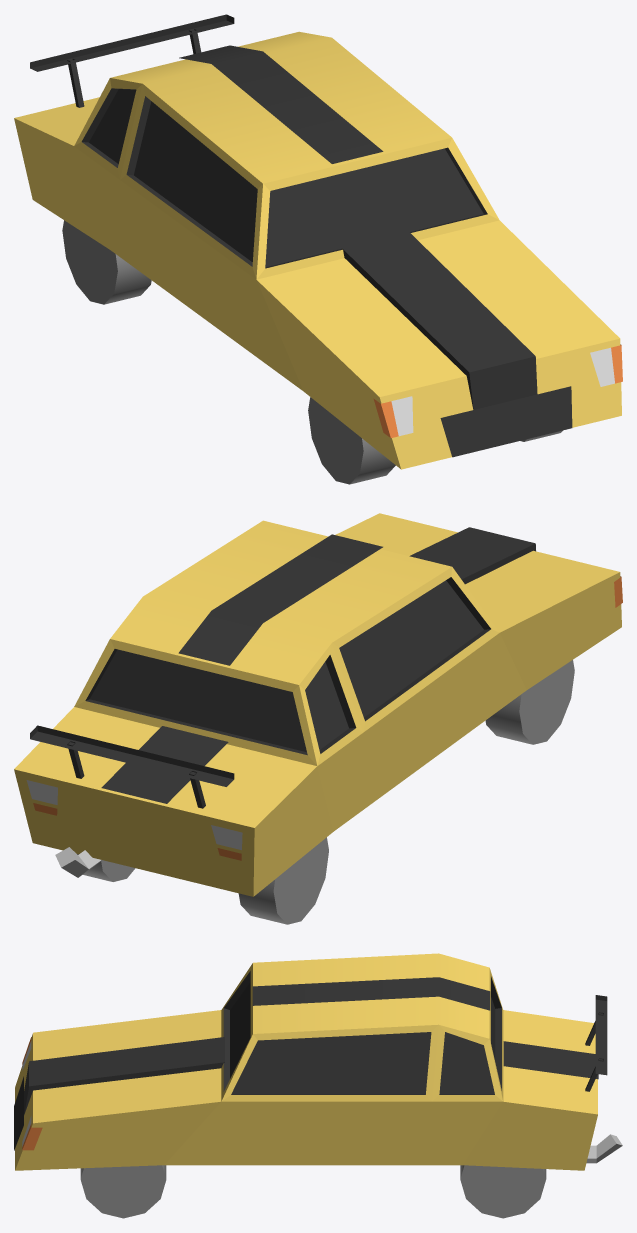
The model's file is sportscar_14.fbx.
The picture shows the model from 3 angles, top to bottom: view 1: azimuth 30°, elevation 25°; view 2: azimuth 150°, elevation 25°; view 3: azimuth 270°, elevation 25°; orthographic projection. The views are drawn at different scales.
Parts seen in each view (by area): view 1: sportscar_14; view 2: sportscar_14; view 3: sportscar_14.
Boxes of the visible parts, left/top/right/bottom form: sportscar_14: left=14, top=14, right=622, bottom=484; sportscar_14: left=14, top=513, right=622, bottom=924; sportscar_14: left=14, top=953, right=622, bottom=1218.
Bounding box in the file's own units: 1.6 × 1.56 × 4.49.
